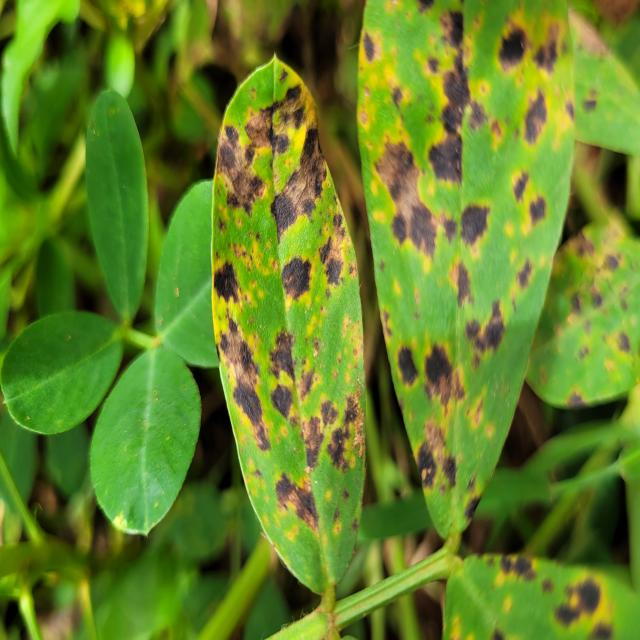Ground nut_healthy: (89, 340, 204, 538), (82, 88, 151, 322), (2, 304, 127, 433)
Ground nut_tikka leaf spot: (361, 0, 575, 536), (212, 51, 366, 604)
